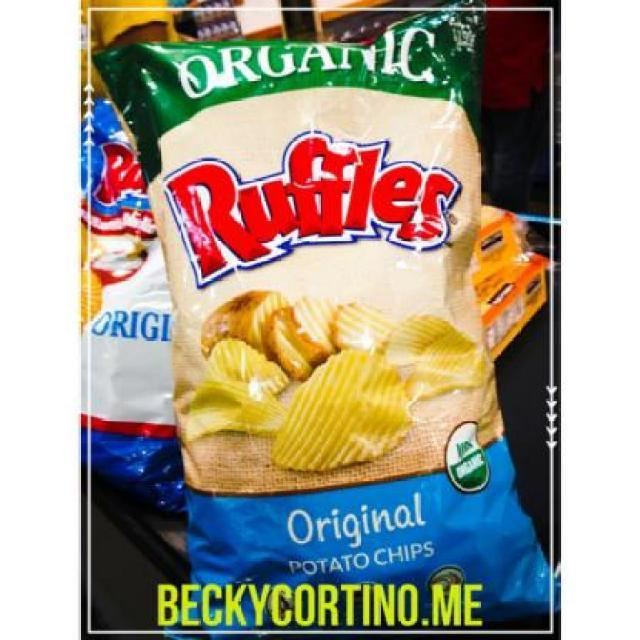Chips: (108, 42, 554, 628)
